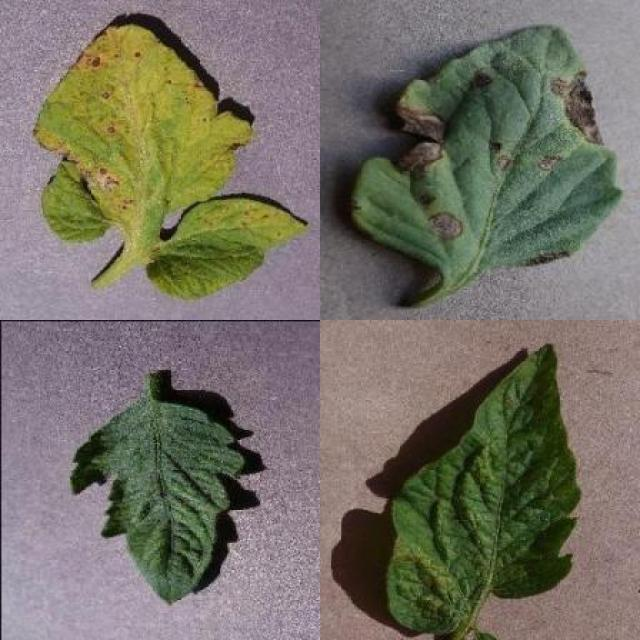Early Blight: (350, 25, 624, 272)
Mosaic Virus: (68, 399, 245, 606)
Septoria: (34, 22, 256, 241), (146, 194, 311, 300)
Spider Mites: (387, 341, 582, 636)
